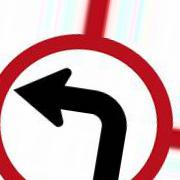left: (1, 34, 175, 180)
